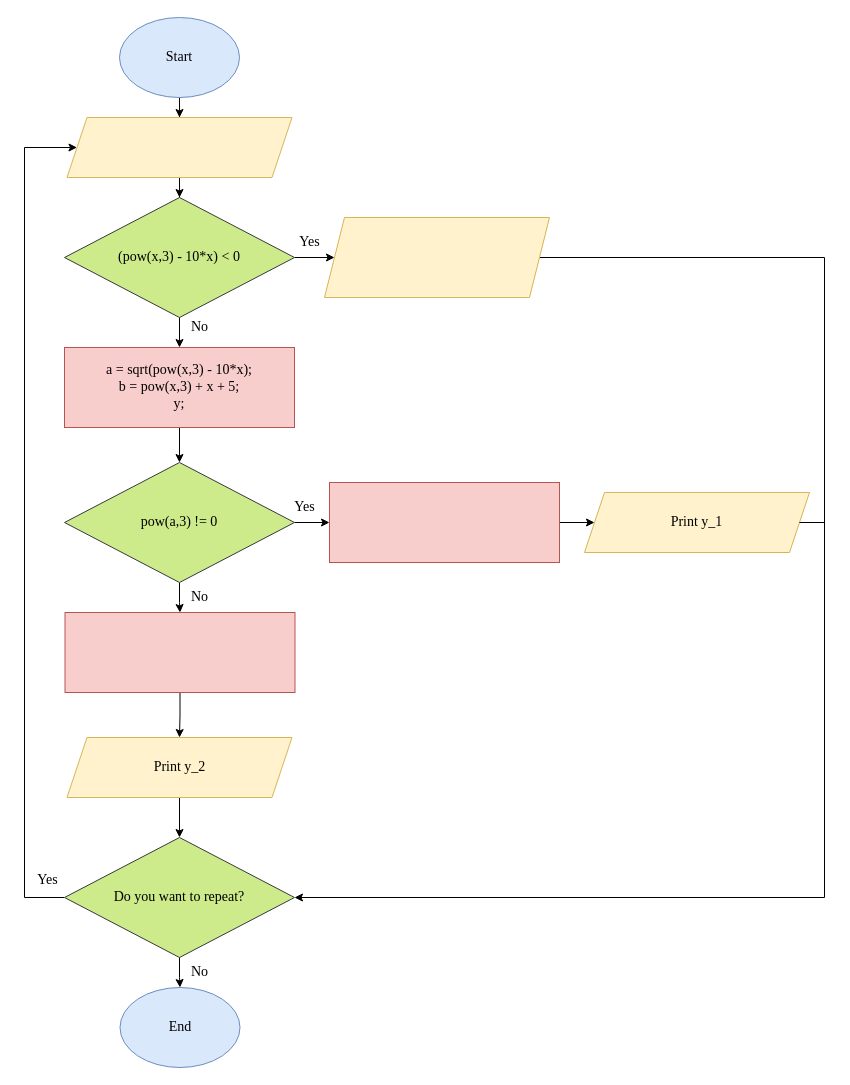
Image size: 850x1085. Some labels were removed from this diagram. Each missing label, with the box of its shape:
Input x: (66, 116, 292, 178)
Print "Check again": (324, 216, 550, 298)
y_1 = ((pow(a,2) + pow(b,2))/4: (328, 482, 560, 562)
y_2 = a*(b-1)*(a-b): (64, 612, 295, 692)
